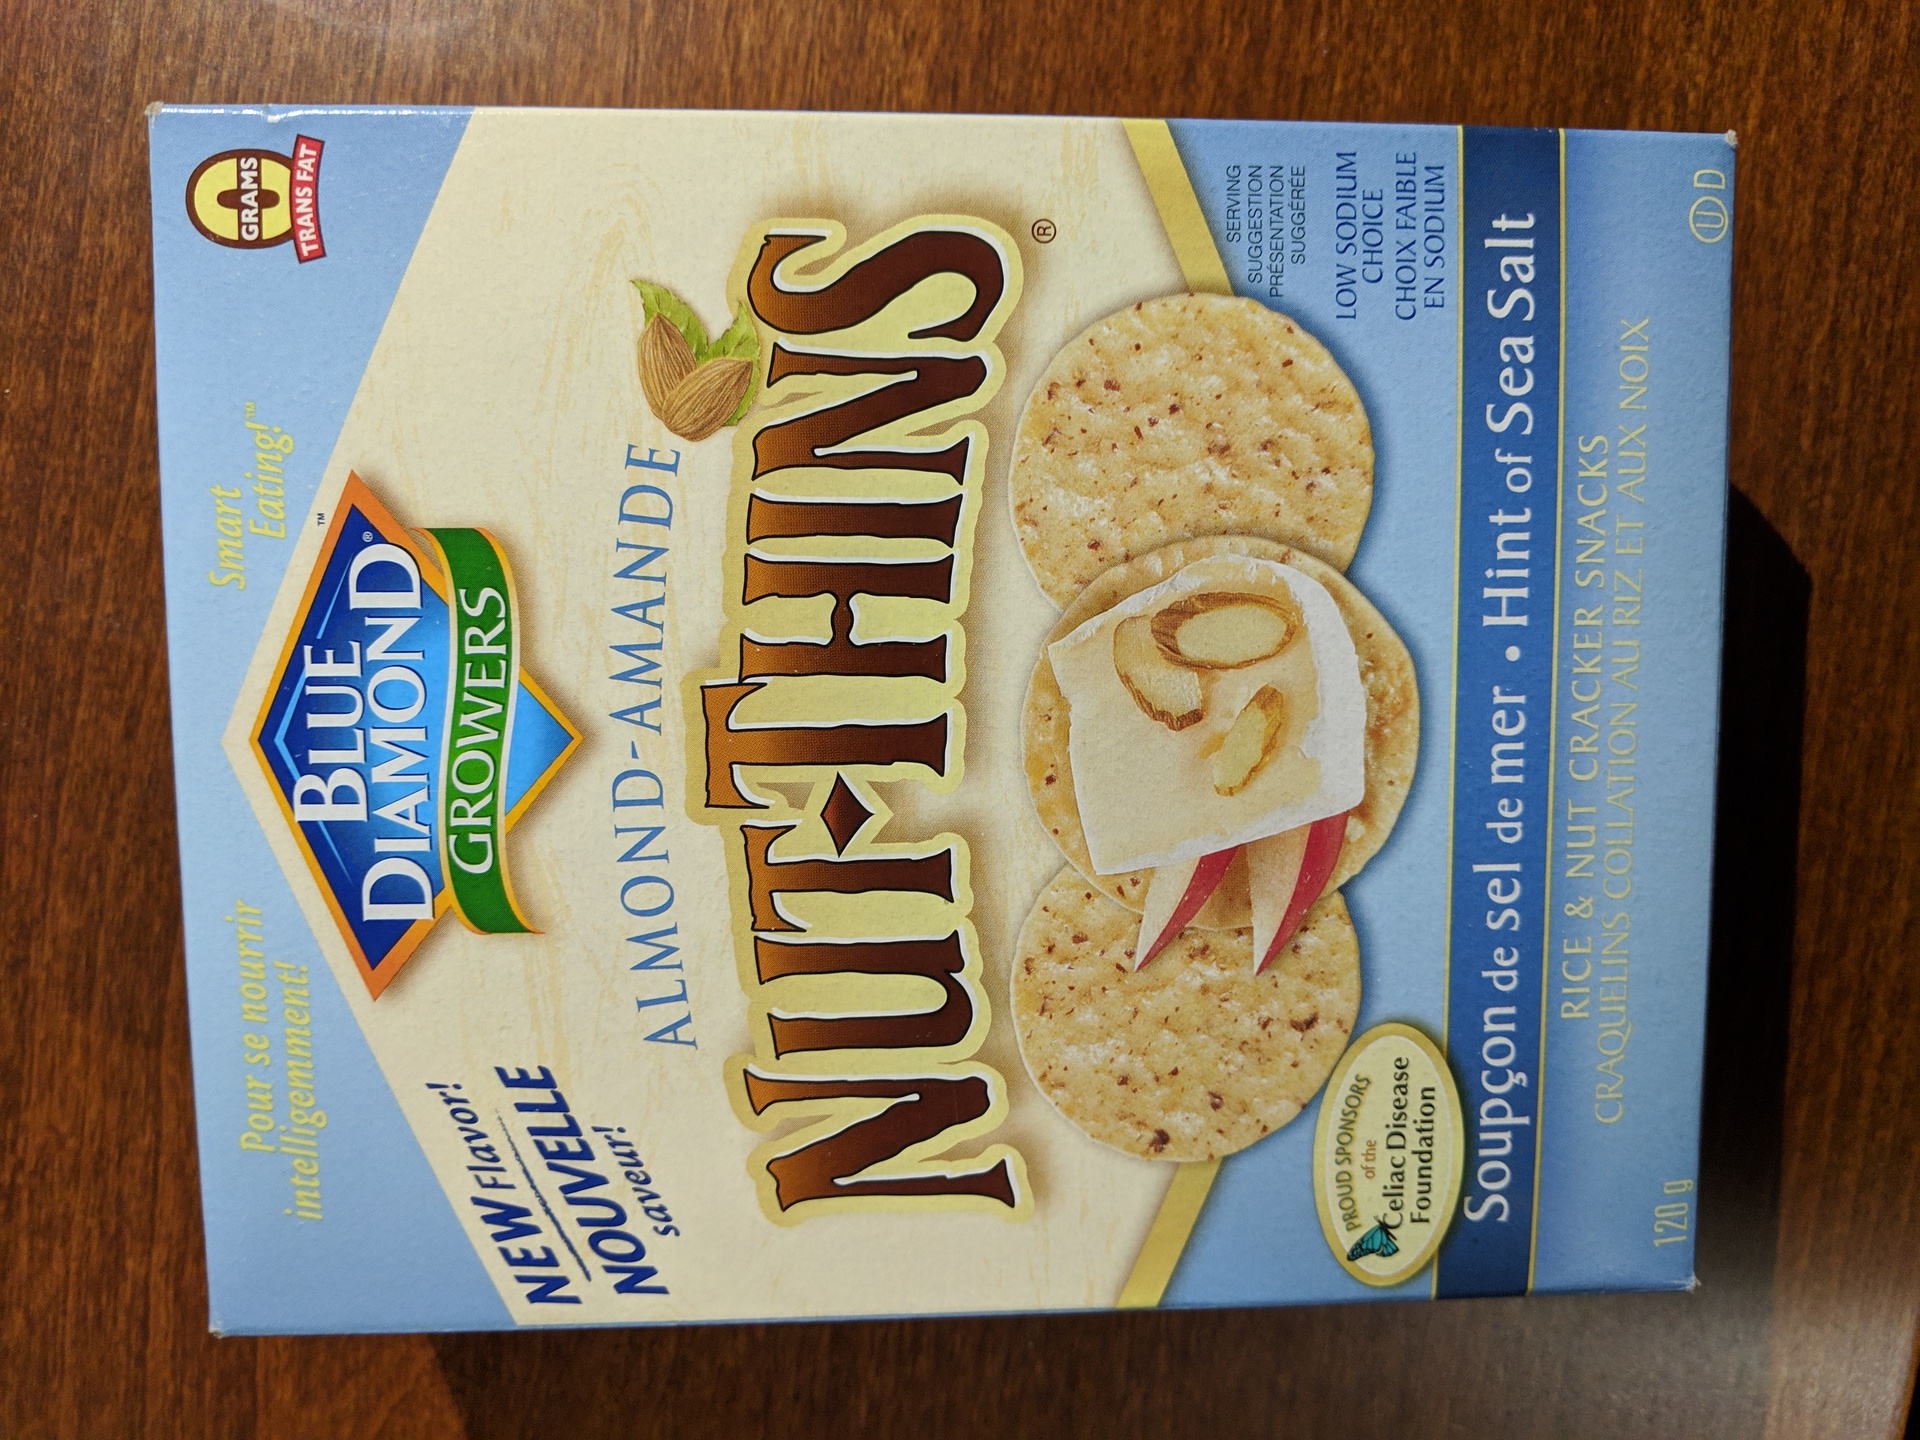blue_diamond_nut_thins_almond_seasalt: (150, 104, 1717, 1299)
